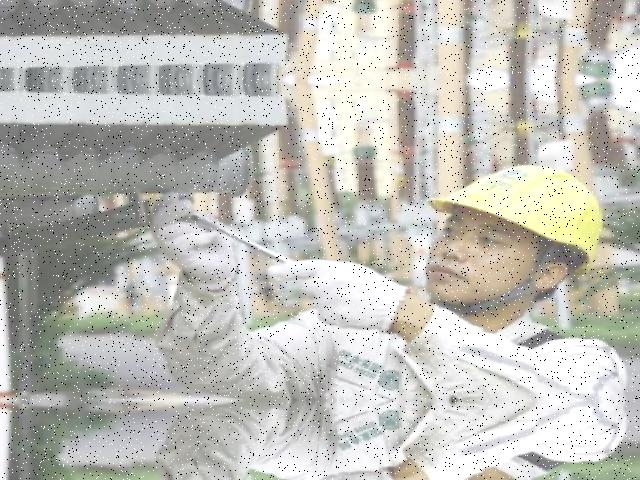Helmet: (420, 157, 610, 278)
